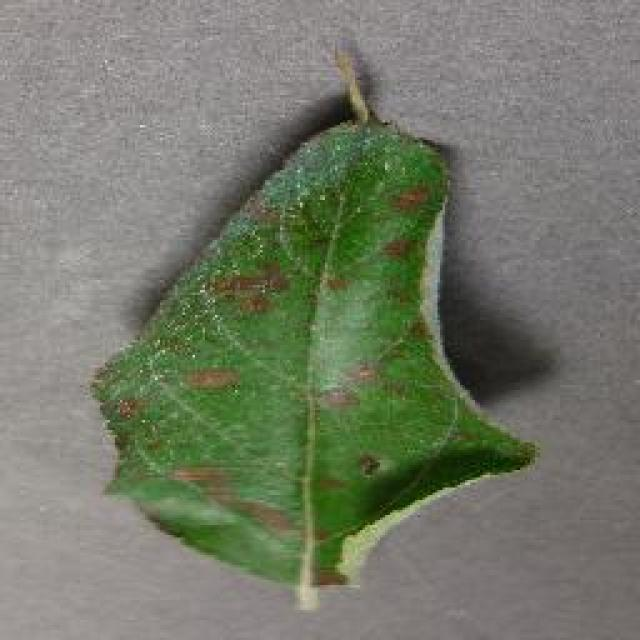apple healthy: (88, 45, 538, 607)
